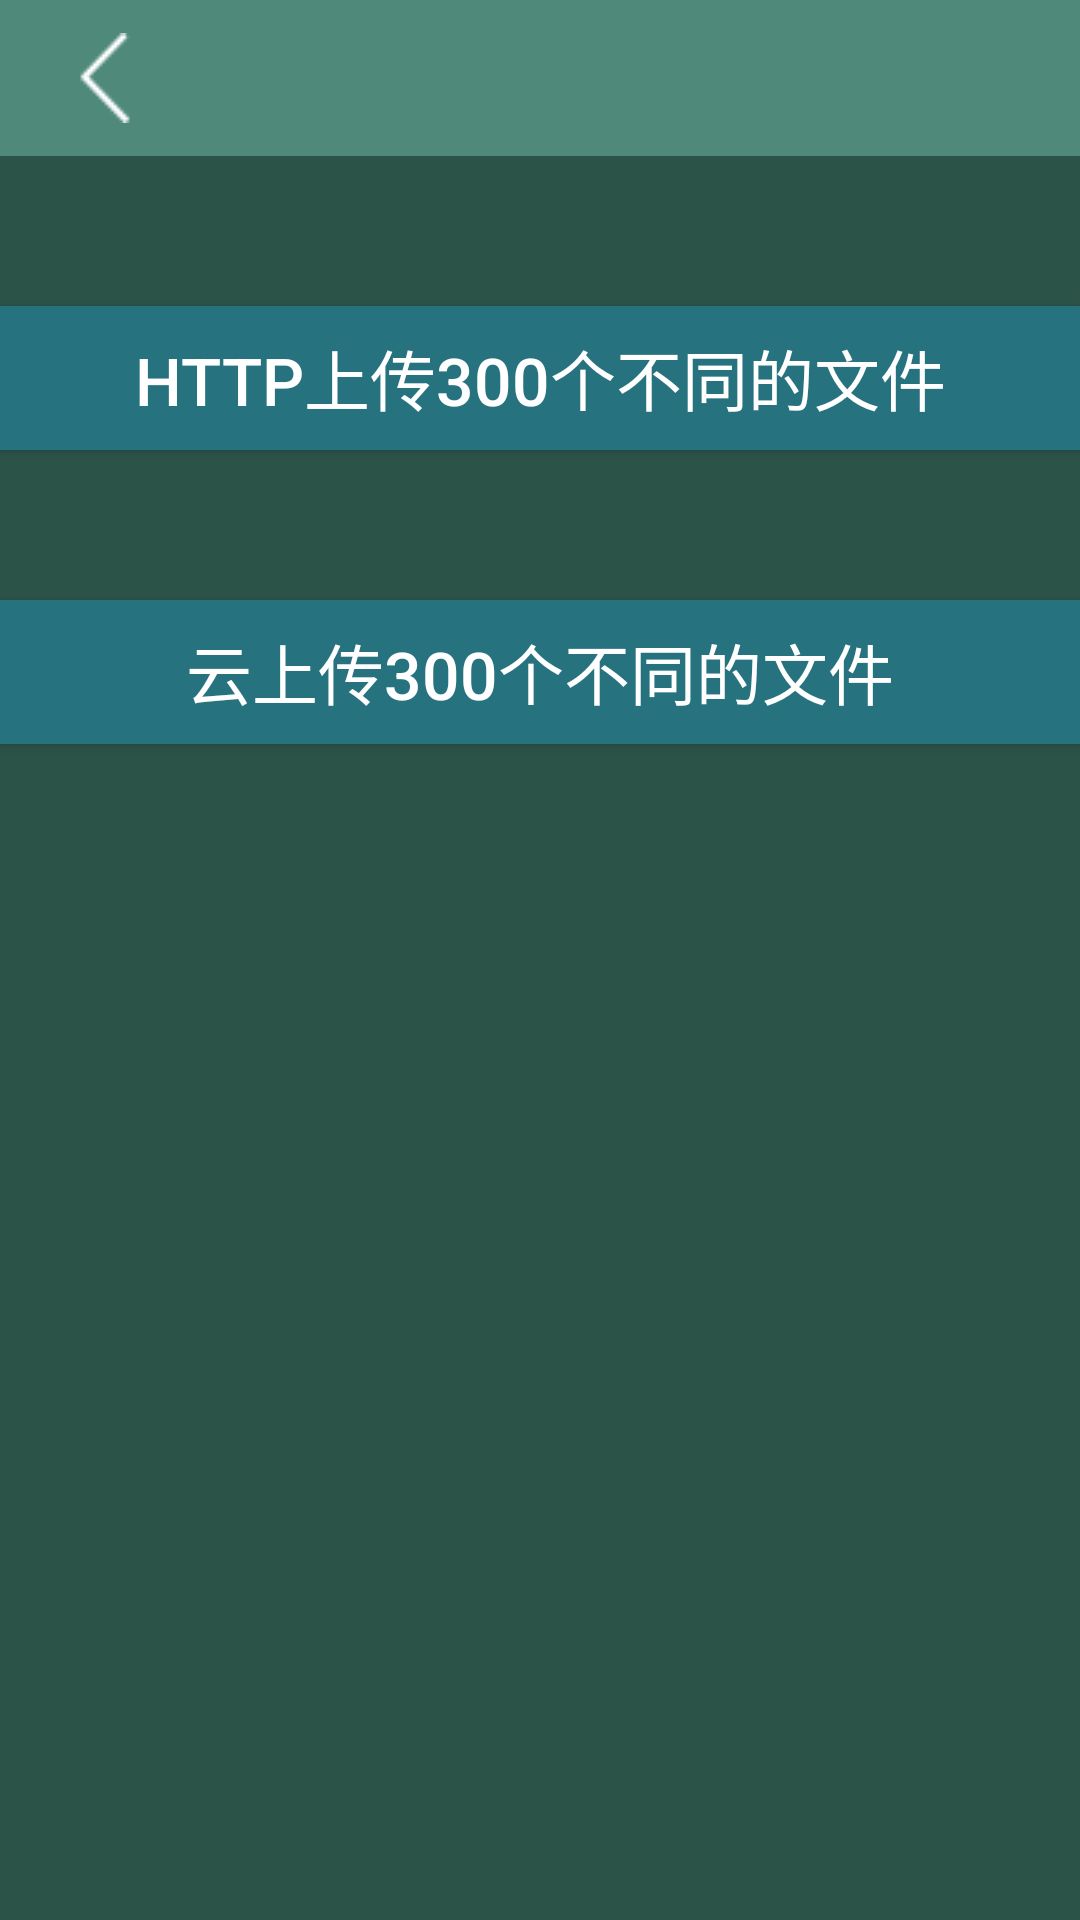

Icons on this 1080w x 1920h Android screen, each with its box as (x1, y1, x2, y2):
back: (80, 33, 130, 123)
